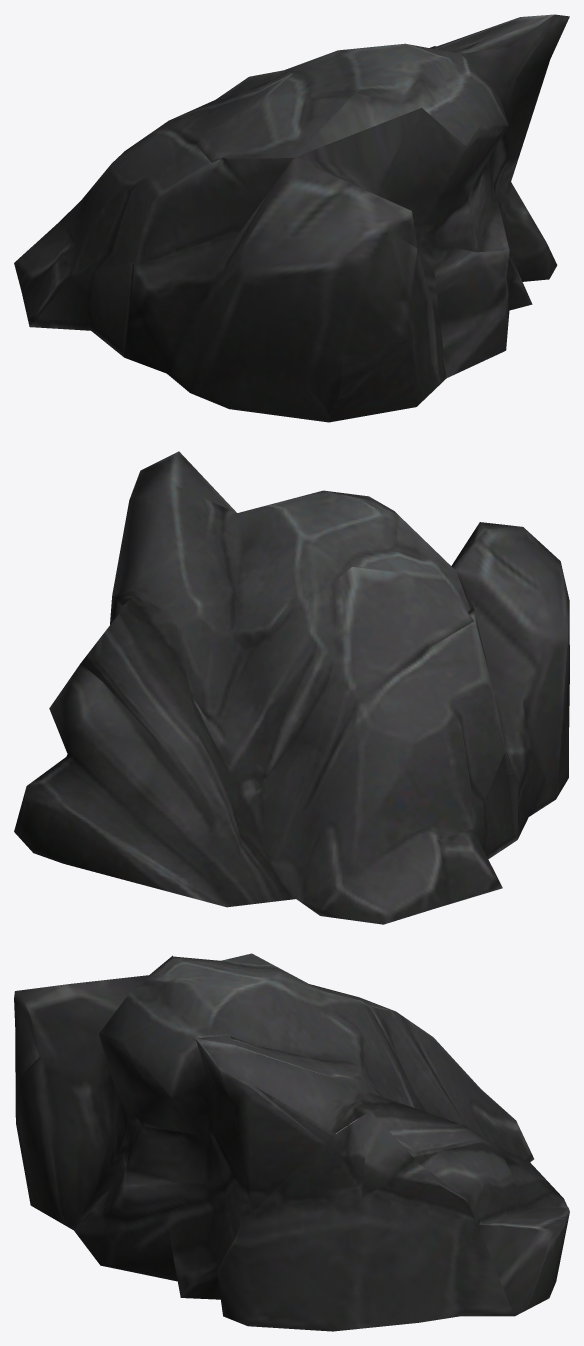
Rendered from moba_st_01.FBX.
The picture shows the model from 3 angles, top to bottom: view 1: azimuth 30°, elevation 25°; view 2: azimuth 150°, elevation 25°; view 3: azimuth 270°, elevation 25°; orthographic projection. The views are drawn at different scales.
Visible parts, largest first — view 1: Mesh_014; view 2: Mesh_014; view 3: Mesh_014.
Boxes of the visible parts, box(x1,y1,x2,y2) form: Mesh_014: box(14, 14, 569, 422); Mesh_014: box(14, 451, 569, 924); Mesh_014: box(14, 953, 569, 1331).
Size of the model in its own units: 43.02 by 24.24 by 44.65.
